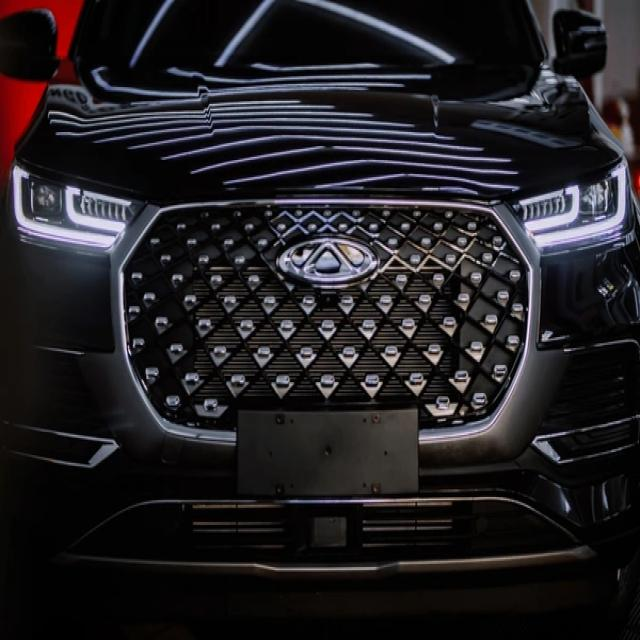mazda: (280, 238, 378, 280)
